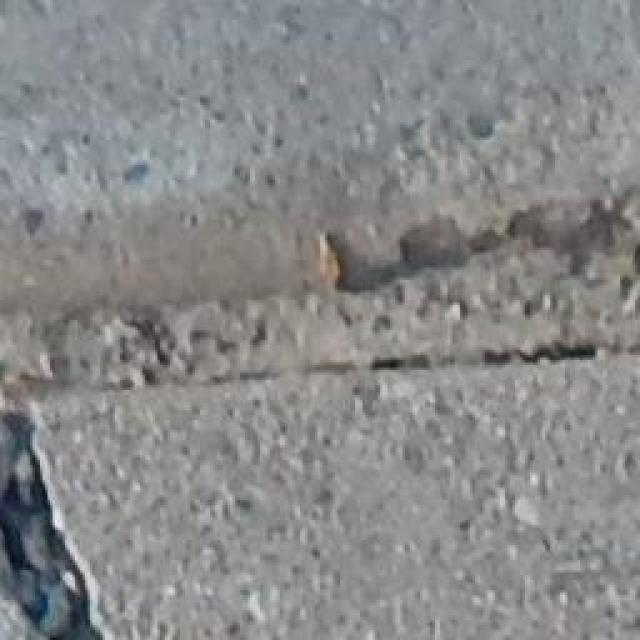concrete-crack: (0, 182, 640, 640)
